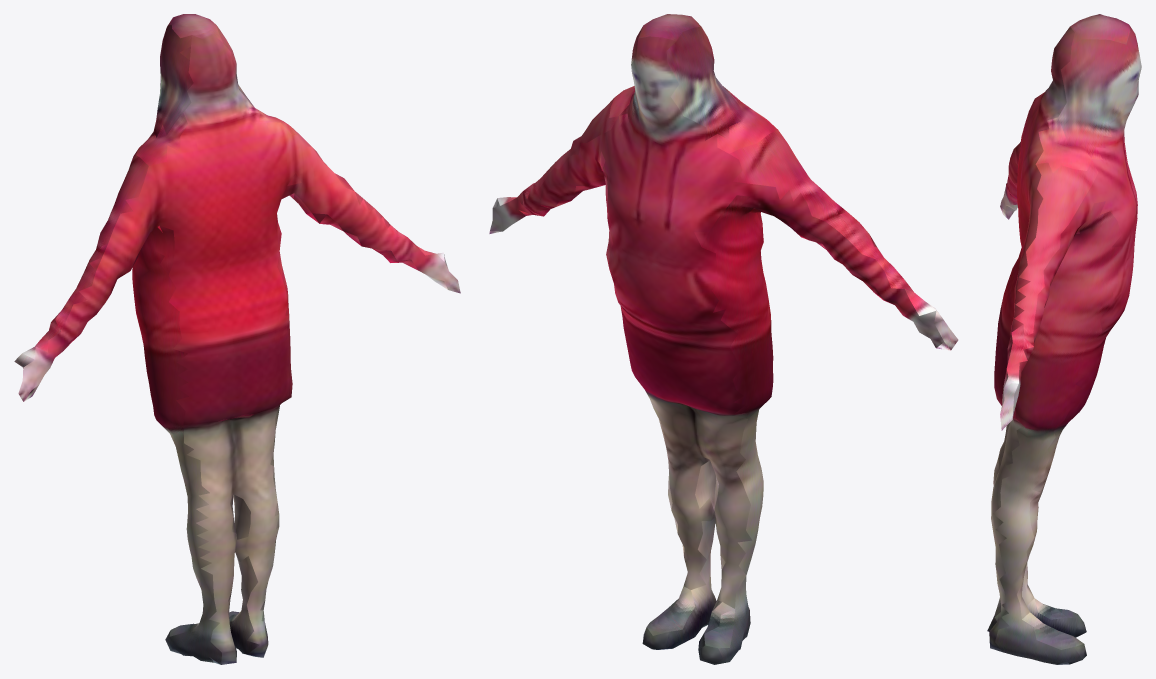
3 views of the same model, side by side, from view 1: azimuth 30°, elevation 25°; view 2: azimuth 150°, elevation 25°; view 3: azimuth 270°, elevation 25° (orthographic). The views are drawn at different scales.
Parts seen in each view (by area): view 1: world; view 2: world; view 3: world.
Boxes of the visible parts, x1,y1,x2,y2 form: world: [14, 14, 460, 664]; world: [489, 14, 958, 664]; world: [987, 14, 1141, 664].
Bounding box in the file's own units: 0.764 × 1.01 × 0.2251.
1 material, 1 textured.
